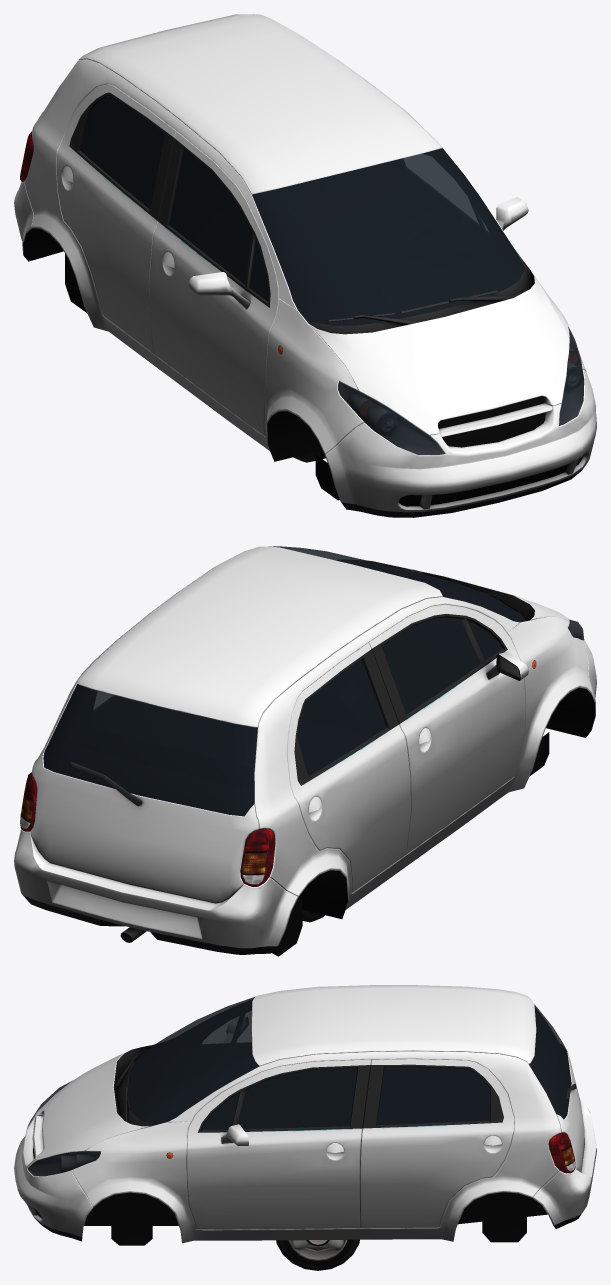
Rendered from kleinwagen.glb.
3 renders of one model, top to bottom at view 1: azimuth 30°, elevation 25°; view 2: azimuth 150°, elevation 25°; view 3: azimuth 270°, elevation 25°, orthographic. The views are drawn at different scales.
Visible parts, largest first — view 1: paint, glass; view 2: paint, glass, tail; view 3: paint, glass, wheel0, tail.
Boxes of the visible parts, x1,y1,x2,y2 form: paint: (14, 14, 596, 517); glass: (59, 86, 584, 455); paint: (14, 546, 596, 956); glass: (43, 546, 584, 816); tail: (20, 660, 536, 887); paint: (14, 985, 596, 1245); glass: (28, 997, 571, 1176); wheel0: (276, 1239, 359, 1270); tail: (166, 1132, 575, 1173).
Size of the model in its own units: 1.61 by 1.56 by 3.26.
Materials: 5 (4 with a texture image).
